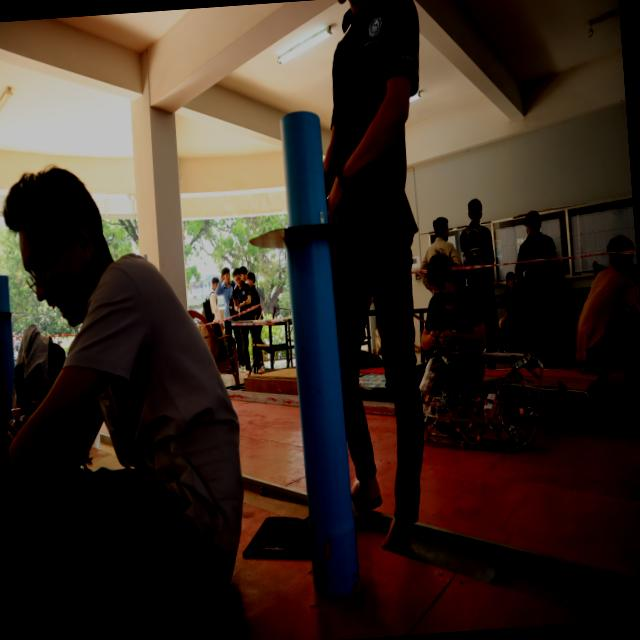pole: (252, 96, 382, 382)
